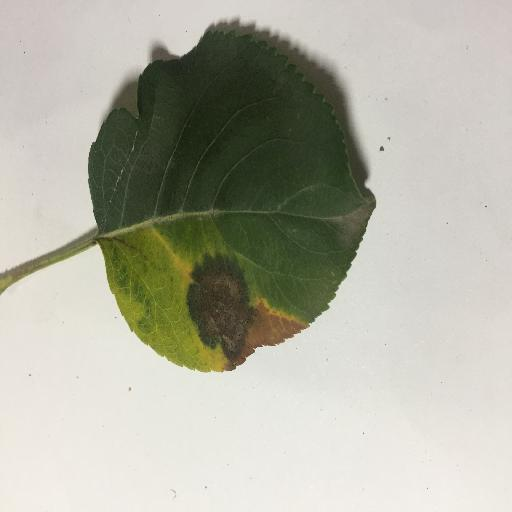Brown_Spot: (182, 256, 258, 371)
